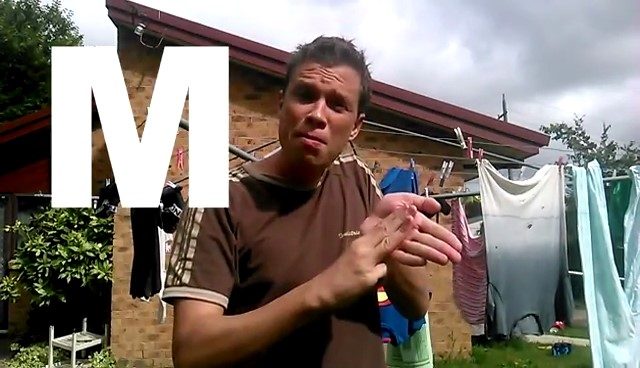M: (317, 190, 466, 299)
